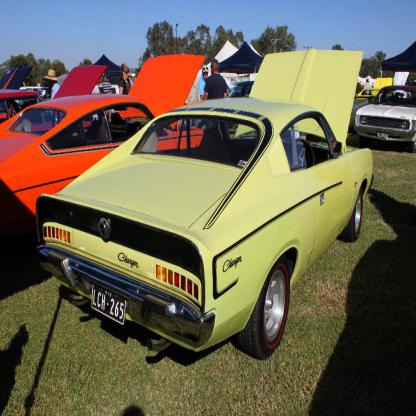Car: (0, 46, 416, 360)
